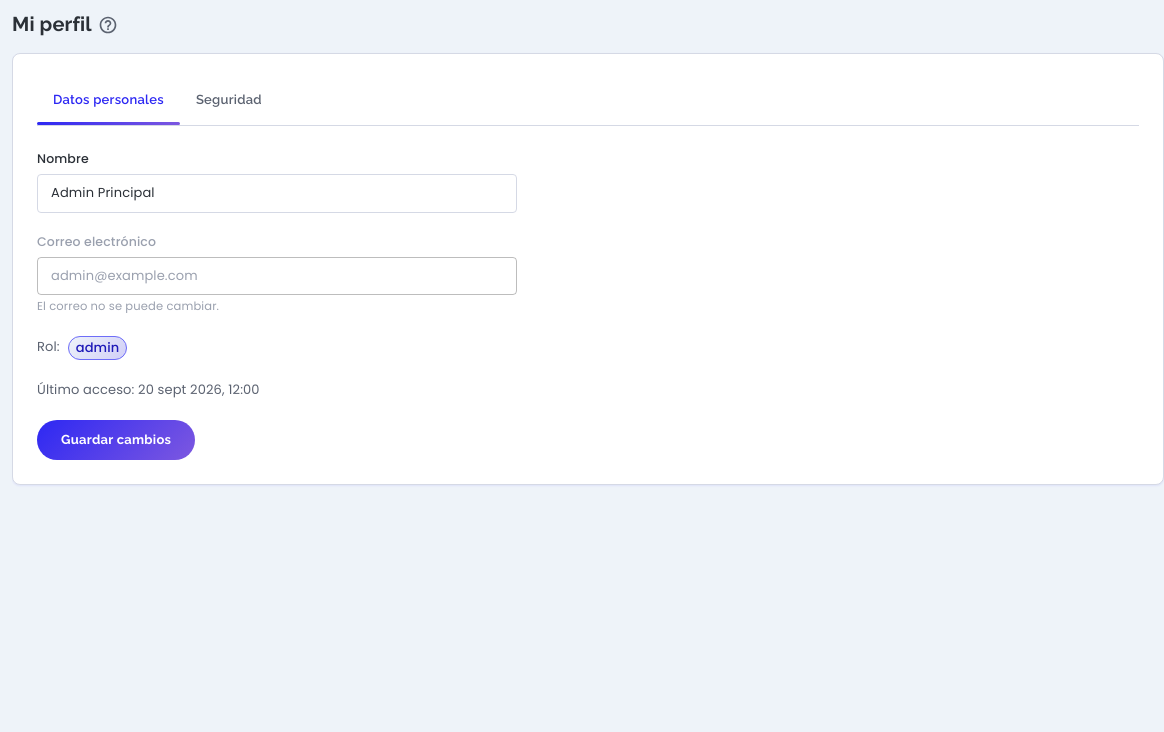
<ProfilePage /> › valida el nombre
Step 1. Clear the field labelled "Nombre" → x=277, y=193, box [37, 174, 517, 213]
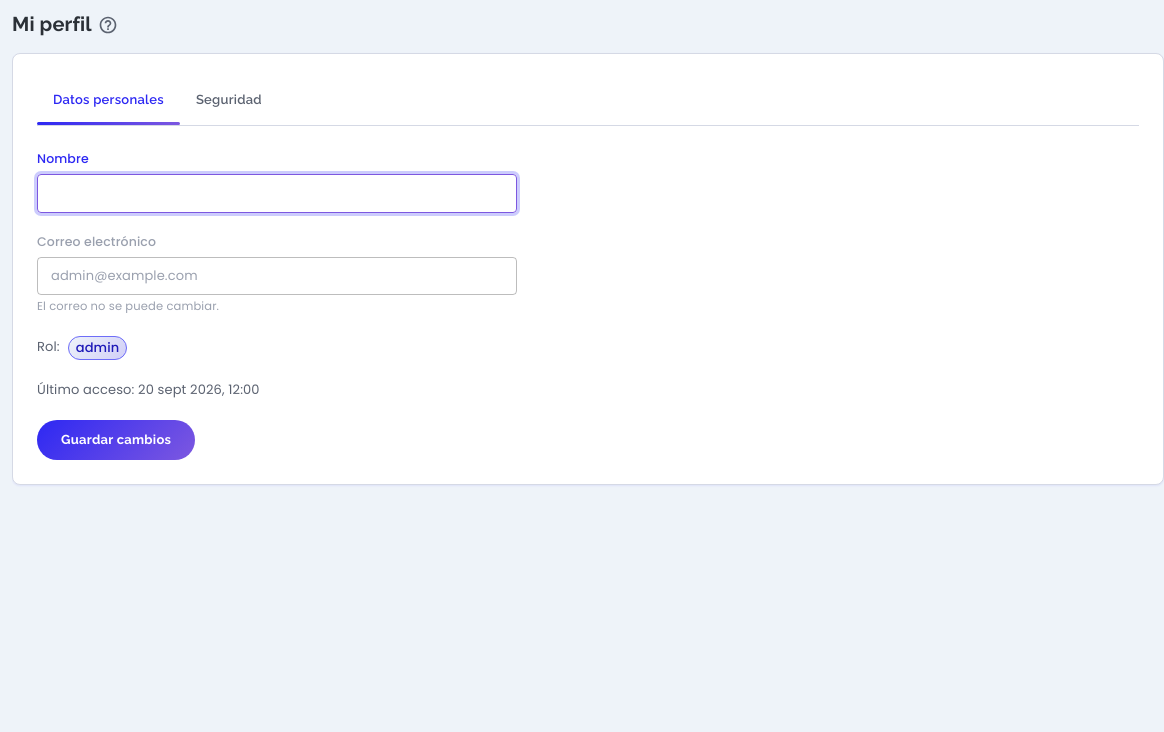
Step 2. Click the button "Guardar cambios" → x=116, y=440, box [37, 420, 195, 460]
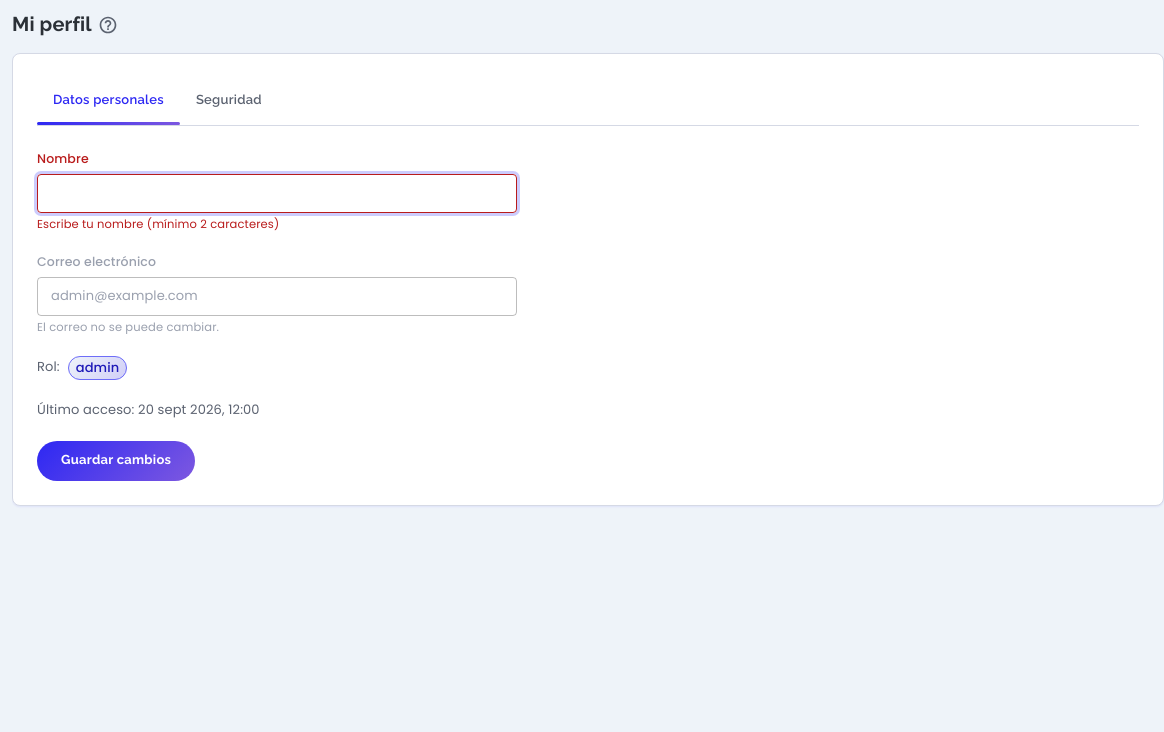
Now the text "Escribe tu nombre (mínimo 2 caracteres)" is shown, box [37, 216, 279, 232]
